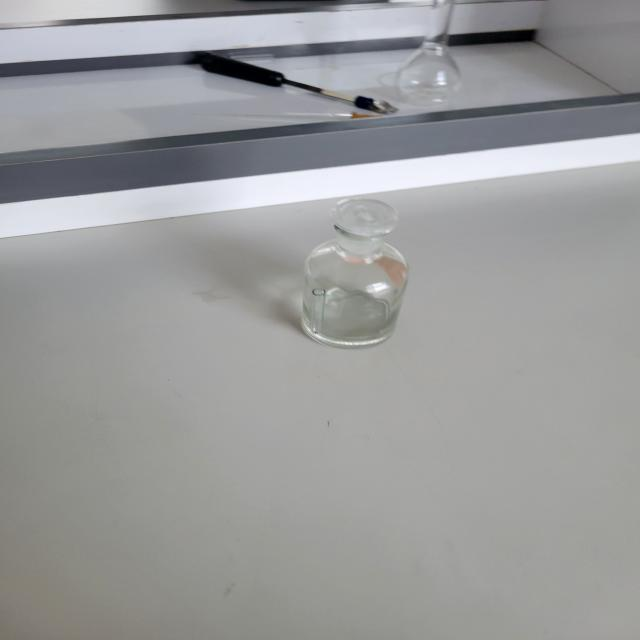Reagent_Bottle: (271, 167, 455, 369)
